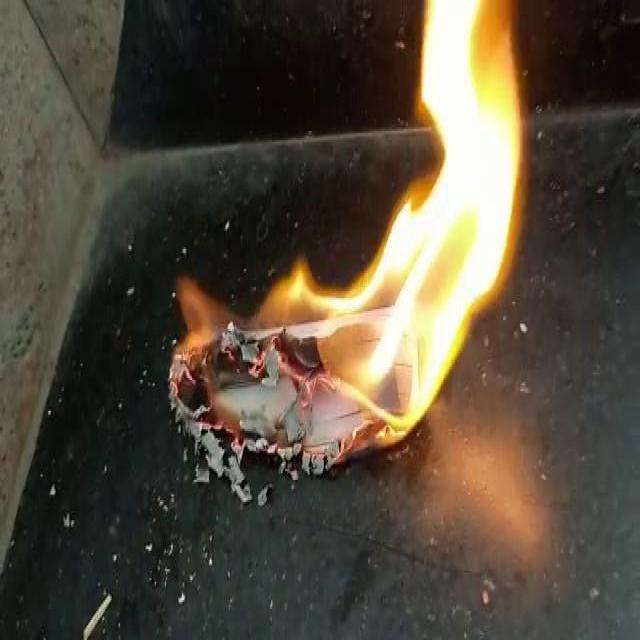fire: (286, 7, 540, 450)
